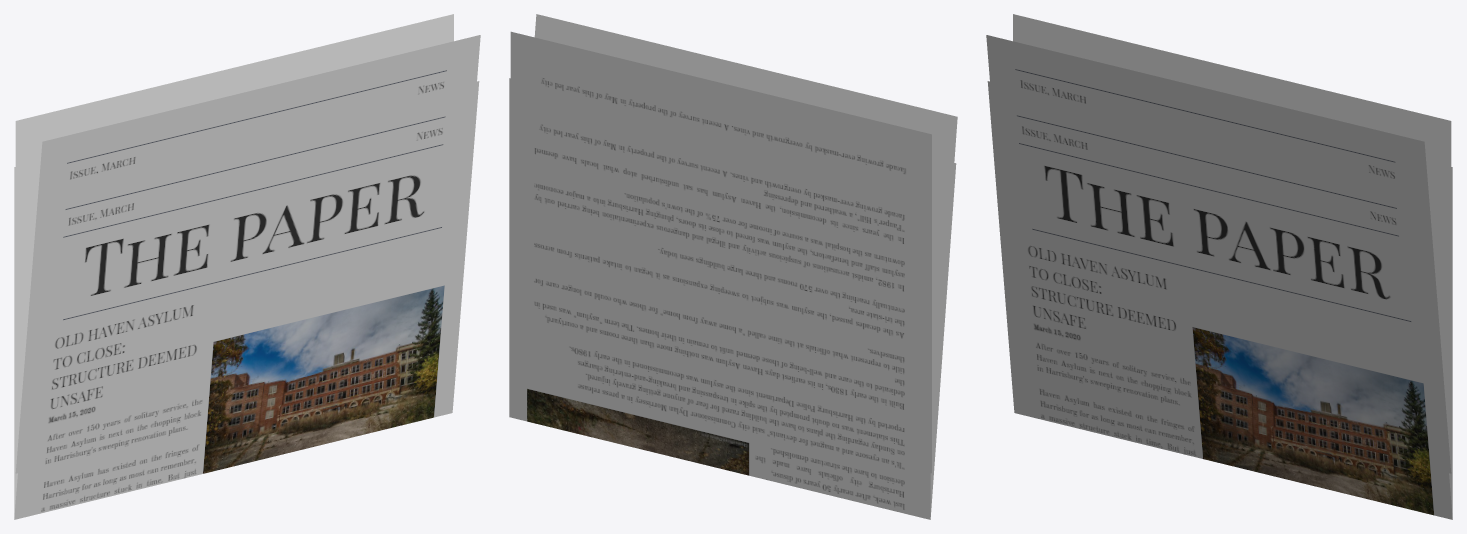
Rendered from Newspaper.fbx.
3 renders of one model, left to right at view 1: azimuth 30°, elevation 25°; view 2: azimuth 150°, elevation 25°; view 3: azimuth 330°, elevation 25°, orthographic. The views are drawn at different scales.
Parts seen in each view (by area): view 1: Plane, Plane.001; view 2: Plane, Plane.001; view 3: Plane, Plane.001.
Boxes of the visible parts, x1=… form: Plane: x1=14, y1=81, x2=479, y2=519; Plane.001: x1=15, y1=14, x2=480, y2=473; Plane: x1=509, y1=78, x2=956, y2=519; Plane.001: x1=510, y1=14, x2=957, y2=473; Plane: x1=987, y1=81, x2=1452, y2=519; Plane.001: x1=986, y1=14, x2=1451, y2=473.
Size of the model in its own units: 200 by 174 by 22.26.
1 material, 1 textured.
